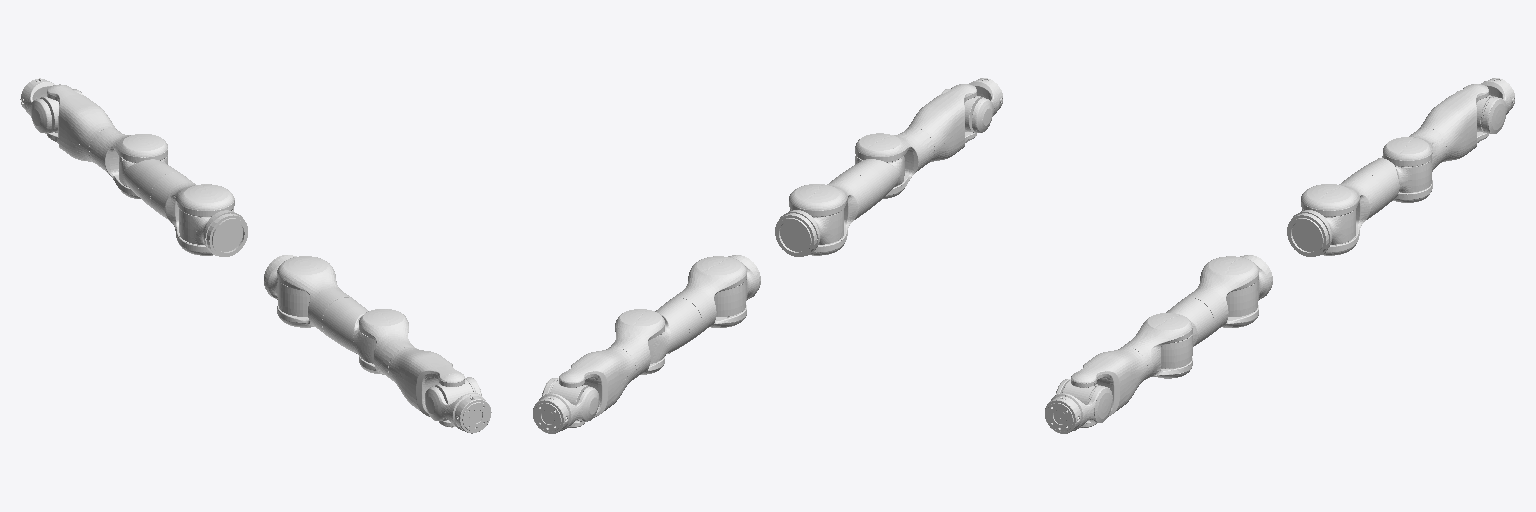
URDF robot description (Marvin_Stand_M6_2026.4.8):
<?xml version="1.0" encoding="utf-8"?>
<!-- This URDF was automatically created by SolidWorks to URDF Exporter! Originally created by Stephen Brawner (brawner@gmail.com) 
     Commit Version: 1.6.0-4-g7f85cfe  Build Version: 1.6.7995.38578
     For more information, please see http://wiki.ros.org/sw_urdf_exporter -->
<robot
  name="Marvin_Stand_M6_2026.4.8">
  <link
    name="ZJ_Robot_link">
    <inertial>
      <origin
        xyz="0.0061822 1.515E-06 0.39228"
        rpy="0 0 0" />
      <mass
        value="15.865" />
      <inertia
        ixx="0.62749"
        ixy="5.8966E-07"
        ixz="-0.0002394"
        iyy="0.61546"
        iyz="-1.2889E-06"
        izz="0.34882" />
    </inertial>
    <visual>
      <origin
        xyz="0 0 0"
        rpy="0 0 0" />
      <geometry>
        <mesh
          filename="package://Marvin_Stand_M6_2026.4.8/meshes/ZJ_Robot_link.STL" />
      </geometry>
      <material
        name="">
        <color
          rgba="0.92 0.92 0.92 1" />
      </material>
    </visual>
    <collision>
      <origin
        xyz="0 0 0"
        rpy="0 0 0" />
      <geometry>
        <mesh
          filename="package://Marvin_Stand_M6_2026.4.8/meshes/ZJ_Robot_link.STL" />
      </geometry>
    </collision>
  </link>
  <link
    name="Arm_R1_Link">
    <inertial>
      <origin
        xyz="1.9011E-06 -0.0016944 -0.023112"
        rpy="0 0 0" />
      <mass
        value="2.1885" />
      <inertia
        ixx="0.0045138"
        ixy="1.0153E-07"
        ixz="3.0946E-08"
        iyy="0.0053666"
        iyz="8.5741E-05"
        izz="0.0023625" />
    </inertial>
    <visual>
      <origin
        xyz="0 0 0"
        rpy="0 0 0" />
      <geometry>
        <mesh
          filename="package://Marvin_Stand_M6_2026.4.8/meshes/Arm_R1_Link.STL" />
      </geometry>
      <material
        name="">
        <color
          rgba="0.92 0.92 0.92 1" />
      </material>
    </visual>
    <collision>
      <origin
        xyz="0 0 0"
        rpy="0 0 0" />
      <geometry>
        <mesh
          filename="package://Marvin_Stand_M6_2026.4.8/meshes/Arm_R1_Link.STL" />
      </geometry>
    </collision>
  </link>
  <joint
    name="Arm_R1_Joint"
    type="revolute">
    <origin
      xyz="0 -0.2005 1.121"
      rpy="1.5707963267949 0 0" />
    <parent
      link="ZJ_Robot_link" />
    <child
      link="Arm_R1_Link" />
    <axis
      xyz="0 0 1" />
    <limit
      lower="-3.1067"
      upper="3.1067"
      effort="108"
      velocity="3.1416" />
  </joint>
  <link
    name="Arm_R2_Link">
    <inertial>
      <origin
        xyz="1.3574E-06 0.047716 -0.0015154"
        rpy="0 0 0" />
      <mass
        value="3.0955" />
      <inertia
        ixx="0.014614"
        ixy="1.0126E-07"
        ixz="-2.2987E-07"
        iyy="0.0063502"
        iyz="-0.0002234"
        izz="0.012237" />
    </inertial>
    <visual>
      <origin
        xyz="0 0 0"
        rpy="0 0 0" />
      <geometry>
        <mesh
          filename="package://Marvin_Stand_M6_2026.4.8/meshes/Arm_R2_Link.STL" />
      </geometry>
      <material
        name="">
        <color
          rgba="0.92 0.92 0.92 1" />
      </material>
    </visual>
    <collision>
      <origin
        xyz="0 0 0"
        rpy="0 0 0" />
      <geometry>
        <mesh
          filename="package://Marvin_Stand_M6_2026.4.8/meshes/Arm_R2_Link.STL" />
      </geometry>
    </collision>
  </link>
  <joint
    name="Arm_R2_Joint"
    type="revolute">
    <origin
      xyz="0 0 0"
      rpy="1.5707963267949 0 0" />
    <parent
      link="Arm_R1_Link" />
    <child
      link="Arm_R2_Link" />
    <axis
      xyz="0 0 1" />
    <limit
      lower="-2.0944"
      upper="2.0944"
      effort="108"
      velocity="3.1416" />
  </joint>
  <link
    name="Arm_R3_Link">
    <inertial>
      <origin
        xyz="0.0058494 0.00090267 -0.056833"
        rpy="0 0 0" />
      <mass
        value="2.8156" />
      <inertia
        ixx="0.0041375"
        ixy="-2.326E-05"
        ixz="-0.00056868"
        iyy="0.0048551"
        iyz="-6.6481E-05"
        izz="0.0028805" />
    </inertial>
    <visual>
      <origin
        xyz="0 0 0"
        rpy="0 0 0" />
      <geometry>
        <mesh
          filename="package://Marvin_Stand_M6_2026.4.8/meshes/Arm_R3_Link.STL" />
      </geometry>
      <material
        name="">
        <color
          rgba="0.92 0.92 0.92 1" />
      </material>
    </visual>
    <collision>
      <origin
        xyz="0 0 0"
        rpy="0 0 0" />
      <geometry>
        <mesh
          filename="package://Marvin_Stand_M6_2026.4.8/meshes/Arm_R3_Link.STL" />
      </geometry>
    </collision>
  </link>
  <joint
    name="Arm_R3_Joint"
    type="revolute">
    <origin
      xyz="0 0.287 0"
      rpy="-1.5707963267949 0 0" />
    <parent
      link="Arm_R2_Link" />
    <child
      link="Arm_R3_Link" />
    <axis
      xyz="0 0 -1" />
    <limit
      lower="-3.1067"
      upper="3.1067"
      effort="66"
      velocity="3.1416" />
  </joint>
  <link
    name="Arm_R4_Link">
    <inertial>
      <origin
        xyz="0.0077606 -0.037398 0.0015701"
        rpy="0 0 0" />
      <mass
        value="2.1623" />
      <inertia
        ixx="0.0073057"
        ixy="0.00076165"
        ixz="2.6393E-05"
        iyy="0.0038811"
        iyz="-0.00012714"
        izz="0.0059903" />
    </inertial>
    <visual>
      <origin
        xyz="0 0 0"
        rpy="0 0 0" />
      <geometry>
        <mesh
          filename="package://Marvin_Stand_M6_2026.4.8/meshes/Arm_R4_Link.STL" />
      </geometry>
      <material
        name="">
        <color
          rgba="0.92 0.92 0.92 1" />
      </material>
    </visual>
    <collision>
      <origin
        xyz="0 0 0"
        rpy="0 0 0" />
      <geometry>
        <mesh
          filename="package://Marvin_Stand_M6_2026.4.8/meshes/Arm_R4_Link.STL" />
      </geometry>
    </collision>
  </link>
  <joint
    name="Arm_R4_Joint"
    type="revolute">
    <origin
      xyz="0.0180000000000117 0 0"
      rpy="-1.5707963267949 0 3.14159265358978" />
    <parent
      link="Arm_R3_Link" />
    <child
      link="Arm_R4_Link" />
    <axis
      xyz="0 0 1" />
    <limit
      lower="-2.5307"
      upper="1.0472"
      effort="66"
      velocity="3.1416" />
  </joint>
  <link
    name="Arm_R5_Link">
    <inertial>
      <origin
        xyz="6.7157E-07 4.5541E-05 -0.11193"
        rpy="0 0 0" />
      <mass
        value="3.1322" />
      <inertia
        ixx="0.010001"
        ixy="1.9075E-08"
        ixz="2.4468E-07"
        iyy="0.0085963"
        iyz="-1.5665E-05"
        izz="0.004403" />
    </inertial>
    <visual>
      <origin
        xyz="0 0 0"
        rpy="0 0 0" />
      <geometry>
        <mesh
          filename="package://Marvin_Stand_M6_2026.4.8/meshes/Arm_R5_Link.STL" />
      </geometry>
      <material
        name="">
        <color
          rgba="0.92 0.92 0.92 1" />
      </material>
    </visual>
    <collision>
      <origin
        xyz="0 0 0"
        rpy="0 0 0" />
      <geometry>
        <mesh
          filename="package://Marvin_Stand_M6_2026.4.8/meshes/Arm_R5_Link.STL" />
      </geometry>
    </collision>
  </link>
  <joint
    name="Arm_R5_Joint"
    type="revolute">
    <origin
      xyz="0.0179999999999999 -0.313999999999999 0"
      rpy="-1.5707963267949 0 3.14159265358979" />
    <parent
      link="Arm_R4_Link" />
    <child
      link="Arm_R5_Link" />
    <axis
      xyz="0 0 -1" />
    <limit
      lower="-3.1067"
      upper="3.1067"
      effort="18"
      velocity="3.1416" />
  </joint>
  <link
    name="Arm_R6_Link">
    <inertial>
      <origin
        xyz="2.5166E-09 0.0024061 -2.4795E-07"
        rpy="0 0 0" />
      <mass
        value="0.73148" />
      <inertia
        ixx="0.00049403"
        ixy="-1.5067E-09"
        ixz="-1.6177E-11"
        iyy="0.00055858"
        iyz="-4.7175E-10"
        izz="0.00045804" />
    </inertial>
    <visual>
      <origin
        xyz="0 0 0"
        rpy="0 0 0" />
      <geometry>
        <mesh
          filename="package://Marvin_Stand_M6_2026.4.8/meshes/Arm_R6_Link.STL" />
      </geometry>
      <material
        name="">
        <color
          rgba="0.92 0.92 0.92 1" />
      </material>
    </visual>
    <collision>
      <origin
        xyz="0 0 0"
        rpy="0 0 0" />
      <geometry>
        <mesh
          filename="package://Marvin_Stand_M6_2026.4.8/meshes/Arm_R6_Link.STL" />
      </geometry>
    </collision>
  </link>
  <joint
    name="Arm_R6_Joint"
    type="revolute">
    <origin
      xyz="0 0 0"
      rpy="1.57079632679492 -1.5707963267949 0" />
    <parent
      link="Arm_R5_Link" />
    <child
      link="Arm_R6_Link" />
    <axis
      xyz="0 0 1" />
    <limit
      lower="-1.0472"
      upper="1.0472"
      effort="18"
      velocity="3.1416" />
  </joint>
  <link
    name="Arm_R7_Link">
    <inertial>
      <origin
        xyz="1.7365E-05 -0.037458 0.0050436"
        rpy="0 0 0" />
      <mass
        value="0.9461" />
      <inertia
        ixx="0.0024615"
        ixy="6.361E-07"
        ixz="9.5177E-08"
        iyy="0.001288"
        iyz="-0.00017642"
        izz="0.0018061" />
    </inertial>
    <visual>
      <origin
        xyz="0 0 0"
        rpy="0 0 0" />
      <geometry>
        <mesh
          filename="package://Marvin_Stand_M6_2026.4.8/meshes/Arm_R7_Link.STL" />
      </geometry>
      <material
        name="">
        <color
          rgba="0.92 0.92 0.92 1" />
      </material>
    </visual>
    <collision>
      <origin
        xyz="0 0 0"
        rpy="0 0 0" />
      <geometry>
        <mesh
          filename="package://Marvin_Stand_M6_2026.4.8/meshes/Arm_R7_Link.STL" />
      </geometry>
    </collision>
  </link>
  <joint
    name="Arm_R7_Joint"
    type="revolute">
    <origin
      xyz="0 0 0"
      rpy="1.5708 -1.5708 0" />
    <parent
      link="Arm_R6_Link" />
    <child
      link="Arm_R7_Link" />
    <axis
      xyz="0 0 1" />
    <limit
      lower="-1.5708"
      upper="1.5708"
      effort="18"
      velocity="3.1416" />
  </joint>
  <link
    name="Arm_R_gripper_base">
    <inertial>
      <origin
        xyz="0 -0.075 0"
        rpy="0 0 0" />
      <mass
        value="0.85" />
      <inertia
        ixx="0.0016"
        ixy="0"
        ixz="0"
        iyy="0.0009"
        iyz="0"
        izz="0.0016" />
    </inertial>
  </link>
  <joint
    name="Arm_R_gripper_base_Joint"
    type="fixed">
    <origin
      xyz="0 -0.095 0"
      rpy="0 1.5707963267948966 0" />
    <parent
      link="Arm_R7_Link" />
    <child
      link="Arm_R_gripper_base" />
  </joint>
  <link
    name="Arm_R_finger1">
    <inertial>
      <origin
        xyz="0 -0.195 0.035"
        rpy="0 0 0" />
      <mass
        value="0.065" />
      <inertia
        ixx="2.5e-05"
        ixy="0"
        ixz="0"
        iyy="1.5e-05"
        iyz="0"
        izz="2.5e-05" />
    </inertial>
  </link>
  <joint
    name="Arm_R_finger1_Joint"
    type="prismatic">
    <origin
      xyz="0 0 0"
      rpy="0 0 0" />
    <parent
      link="Arm_R_gripper_base" />
    <child
      link="Arm_R_finger1" />
    <axis
      xyz="0 0 -1" />
    <limit
      lower="0"
      upper="0.045"
      effort="60"
      velocity="0.2" />
  </joint>
  <link
    name="Arm_R_finger2">
    <inertial>
      <origin
        xyz="0 -0.195 -0.035"
        rpy="0 0 0" />
      <mass
        value="0.065" />
      <inertia
        ixx="2.5e-05"
        ixy="0"
        ixz="0"
        iyy="1.5e-05"
        iyz="0"
        izz="2.5e-05" />
    </inertial>
  </link>
  <joint
    name="Arm_R_finger2_Joint"
    type="prismatic">
    <origin
      xyz="0 0 0"
      rpy="0 0 0" />
    <parent
      link="Arm_R_gripper_base" />
    <child
      link="Arm_R_finger2" />
    <axis
      xyz="0 0 1" />
    <limit
      lower="0"
      upper="0.045"
      effort="60"
      velocity="0.2" />
    <mimic joint="Arm_R_finger1_Joint" multiplier="1" offset="0" />
  </joint>
  <link
    name="Arm_L1_Link">
    <inertial>
      <origin
        xyz="1.9011E-06 -0.0016944 -0.023112"
        rpy="0 0 0" />
      <mass
        value="2.1885" />
      <inertia
        ixx="0.0045138"
        ixy="1.0153E-07"
        ixz="3.0946E-08"
        iyy="0.0053666"
        iyz="8.5741E-05"
        izz="0.0023625" />
    </inertial>
    <visual>
      <origin
        xyz="0 0 0"
        rpy="0 0 0" />
      <geometry>
        <mesh
          filename="package://Marvin_Stand_M6_2026.4.8/meshes/Arm_L1_Link.STL" />
      </geometry>
      <material
        name="">
        <color
          rgba="0.92 0.92 0.92 1" />
      </material>
    </visual>
    <collision>
      <origin
        xyz="0 0 0"
        rpy="0 0 0" />
      <geometry>
        <mesh
          filename="package://Marvin_Stand_M6_2026.4.8/meshes/Arm_L1_Link.STL" />
      </geometry>
    </collision>
  </link>
  <joint
    name="Arm_L1_Joint"
    type="revolute">
    <origin
      xyz="-0.0013483 0.2005 1.121"
      rpy="-1.5708 0 0" />
    <parent
      link="ZJ_Robot_link" />
    <child
      link="Arm_L1_Link" />
    <axis
      xyz="0 0 1" />
    <limit
      lower="-3.1067"
      upper="3.1067"
      effort="108"
      velocity="3.1416" />
  </joint>
  <link
    name="Arm_L2_Link">
    <inertial>
      <origin
        xyz="-1.3574E-06 -0.047716 -0.0015154"
        rpy="0 0 0" />
      <mass
        value="3.0955" />
      <inertia
        ixx="0.014614"
        ixy="1.0126E-07"
        ixz="2.2987E-07"
        iyy="0.0063502"
        iyz="0.0002234"
        izz="0.012237" />
    </inertial>
    <visual>
      <origin
        xyz="0 0 0"
        rpy="0 0 0" />
      <geometry>
        <mesh
          filename="package://Marvin_Stand_M6_2026.4.8/meshes/Arm_L2_Link.STL" />
      </geometry>
      <material
        name="">
        <color
          rgba="0.92 0.92 0.92 1" />
      </material>
    </visual>
    <collision>
      <origin
        xyz="0 0 0"
        rpy="0 0 0" />
      <geometry>
        <mesh
          filename="package://Marvin_Stand_M6_2026.4.8/meshes/Arm_L2_Link.STL" />
      </geometry>
    </collision>
  </link>
  <joint
    name="Arm_L2_Joint"
    type="revolute">
    <origin
      xyz="0 0 0"
      rpy="-1.5707963267949 0 -3.14159265358977" />
    <parent
      link="Arm_L1_Link" />
    <child
      link="Arm_L2_Link" />
    <axis
      xyz="0 0 1" />
    <limit
      lower="-2.0944"
      upper="2.0944"
      effort="108"
      velocity="3.1416" />
  </joint>
  <link
    name="Arm_L3_Link">
    <inertial>
      <origin
        xyz="0.0058494 0.00090267 -0.056833"
        rpy="0 0 0" />
      <mass
        value="2.8156" />
      <inertia
        ixx="0.0041375"
        ixy="-2.326E-05"
        ixz="-0.00056868"
        iyy="0.0048551"
        iyz="-6.6481E-05"
        izz="0.0028805" />
    </inertial>
    <visual>
      <origin
        xyz="0 0 0"
        rpy="0 0 0" />
      <geometry>
        <mesh
          filename="package://Marvin_Stand_M6_2026.4.8/meshes/Arm_L3_Link.STL" />
      </geometry>
      <material
        name="">
        <color
          rgba="0.92 0.92 0.92 1" />
      </material>
    </visual>
    <collision>
      <origin
        xyz="0 0 0"
        rpy="0 0 0" />
      <geometry>
        <mesh
          filename="package://Marvin_Stand_M6_2026.4.8/meshes/Arm_L3_Link.STL" />
      </geometry>
    </collision>
  </link>
  <joint
    name="Arm_L3_Joint"
    type="revolute">
    <origin
      xyz="0 -0.287 0"
      rpy="-1.5707963267949 0 -3.14159265358979" />
    <parent
      link="Arm_L2_Link" />
    <child
      link="Arm_L3_Link" />
    <axis
      xyz="0 0 -1" />
    <limit
      lower="-3.1067"
      upper="3.1067"
      effort="66"
      velocity="3.1416" />
  </joint>
  <link
    name="Arm_L4_Link">
    <inertial>
      <origin
        xyz="0.0077606 -0.037398 0.0015701"
        rpy="0 0 0" />
      <mass
        value="2.1623" />
      <inertia
        ixx="0.0073057"
        ixy="0.00076165"
        ixz="2.6393E-05"
        iyy="0.0038811"
        iyz="-0.00012714"
        izz="0.0059903" />
    </inertial>
    <visual>
      <origin
        xyz="0 0 0"
        rpy="0 0 0" />
      <geometry>
        <mesh
          filename="package://Marvin_Stand_M6_2026.4.8/meshes/Arm_L4_Link.STL" />
      </geometry>
      <material
        name="">
        <color
          rgba="0.92 0.92 0.92 1" />
      </material>
    </visual>
    <collision>
      <origin
        xyz="0 0 0"
        rpy="0 0 0" />
      <geometry>
        <mesh
          filename="package://Marvin_Stand_M6_2026.4.8/meshes/Arm_L4_Link.STL" />
      </geometry>
    </collision>
  </link>
  <joint
    name="Arm_L4_Joint"
    type="revolute">
    <origin
      xyz="0.0179999999999886 0 0"
      rpy="-1.5707963267949 0 -3.14159265358978" />
    <parent
      link="Arm_L3_Link" />
    <child
      link="Arm_L4_Link" />
    <axis
      xyz="0 0 1" />
    <limit
      lower="-2.5307"
      upper="1.0472"
      effort="66"
      velocity="3.1416" />
  </joint>
  <link
    name="Arm_L5_Link">
    <inertial>
      <origin
        xyz="4.5005E-07 -4.5715E-05 -0.11193"
        rpy="0 0 0" />
      <mass
        value="3.1322" />
      <inertia
        ixx="0.010001"
        ixy="-1.1309E-07"
        ixz="2.4263E-07"
        iyy="0.0085963"
        iyz="1.5686E-05"
        izz="0.004403" />
    </inertial>
    <visual>
      <origin
        xyz="0 0 0"
        rpy="0 0 0" />
      <geometry>
        <mesh
          filename="package://Marvin_Stand_M6_2026.4.8/meshes/Arm_L5_Link.STL" />
      </geometry>
      <material
        name="">
        <color
          rgba="0.92 0.92 0.92 1" />
      </material>
    </visual>
    <collision>
      <origin
        xyz="0 0 0"
        rpy="0 0 0" />
      <geometry>
        <mesh
          filename="package://Marvin_Stand_M6_2026.4.8/meshes/Arm_L5_Link.STL" />
      </geometry>
    </collision>
  </link>
  <joint
    name="Arm_L5_Joint"
    type="revolute">
    <origin
      xyz="0.0180000000000001 -0.314 0"
      rpy="-1.5707963267949 0 -3.14159265358979" />
    <parent
      link="Arm_L4_Link" />
    <child
      link="Arm_L5_Link" />
    <axis
      xyz="0 0 1" />
    <limit
      lower="-3.1067"
      upper="3.1067"
      effort="18"
      velocity="3.1416" />
  </joint>
  <link
    name="Arm_L6_Link">
    <inertial>
      <origin
        xyz="2.5166E-09 0.0024061 -2.4795E-07"
        rpy="0 0 0" />
      <mass
        value="0.73148" />
      <inertia
        ixx="0.00049403"
        ixy="-1.5067E-09"
        ixz="-1.6177E-11"
        iyy="0.00055858"
        iyz="-4.7175E-10"
        izz="0.00045804" />
    </inertial>
    <visual>
      <origin
        xyz="0 0 0"
        rpy="0 0 0" />
      <geometry>
        <mesh
          filename="package://Marvin_Stand_M6_2026.4.8/meshes/Arm_L6_Link.STL" />
      </geometry>
      <material
        name="">
        <color
          rgba="0.92 0.92 0.92 1" />
      </material>
    </visual>
    <collision>
      <origin
        xyz="0 0 0"
        rpy="0 0 0" />
      <geometry>
        <mesh
          filename="package://Marvin_Stand_M6_2026.4.8/meshes/Arm_L6_Link.STL" />
      </geometry>
    </collision>
  </link>
  <joint
    name="Arm_L6_Joint"
    type="revolute">
    <origin
      xyz="0 0 0"
      rpy="1.57079632679488 -1.5707963267949 0" />
    <parent
      link="Arm_L5_Link" />
    <child
      link="Arm_L6_Link" />
    <axis
      xyz="0 0 -1" />
    <limit
      lower="-1.0472"
      upper="1.0472"
      effort="18"
      velocity="3.1416" />
  </joint>
  <link
    name="Arm_L7_Link">
    <inertial>
      <origin
        xyz="-1.6024E-05 -0.037457 0.0051214"
        rpy="0 0 0" />
      <mass
        value="0.9461" />
      <inertia
        ixx="0.0024608"
        ixy="-4.8518E-07"
        ixz="-1.7754E-08"
        iyy="0.0012873"
        iyz="-0.00017308"
        izz="0.0018062" />
    </inertial>
    <visual>
      <origin
        xyz="0 0 0"
        rpy="0 0 0" />
      <geometry>
        <mesh
          filename="package://Marvin_Stand_M6_2026.4.8/meshes/Arm_L7_Link.STL" />
      </geometry>
      <material
        name="">
        <color
          rgba="0.92 0.92 0.92 1" />
      </material>
    </visual>
    <collision>
      <origin
        xyz="0 0 0"
        rpy="0 0 0" />
      <geometry>
        <mesh
          filename="package://Marvin_Stand_M6_2026.4.8/meshes/Arm_L7_Link.STL" />
      </geometry>
    </collision>
  </link>
  <joint
    name="Arm_L7_Joint"
    type="revolute">
    <origin
      xyz="0 0 0"
      rpy="1.5708 -1.5708 0" />
    <parent
      link="Arm_L6_Link" />
    <child
      link="Arm_L7_Link" />
    <axis
      xyz="0 0 1" />
    <limit
      lower="-1.5708"
      upper="1.5708"
      effort="18"
      velocity="3.1416" />
  </joint>
  <link
    name="Arm_L_gripper_base">
    <inertial>
      <origin
        xyz="0 -0.075 0"
        rpy="0 0 0" />
      <mass
        value="0.85" />
      <inertia
        ixx="0.0016"
        ixy="0"
        ixz="0"
        iyy="0.0009"
        iyz="0"
        izz="0.0016" />
    </inertial>
  </link>
  <joint
    name="Arm_L_gripper_base_Joint"
    type="fixed">
    <origin
      xyz="0 -0.095 0"
      rpy="0 1.5707963267948966 0" />
    <parent
      link="Arm_L7_Link" />
    <child
      link="Arm_L_gripper_base" />
  </joint>
  <link
    name="Arm_L_finger1">
    <inertial>
      <origin
        xyz="0 -0.195 0.035"
        rpy="0 0 0" />
      <mass
        value="0.065" />
      <inertia
        ixx="2.5e-05"
        ixy="0"
        ixz="0"
        iyy="1.5e-05"
        iyz="0"
        izz="2.5e-05" />
    </inertial>
  </link>
  <joint
    name="Arm_L_finger1_Joint"
    type="prismatic">
    <origin
      xyz="0 0 0"
      rpy="0 0 0" />
    <parent
      link="Arm_L_gripper_base" />
    <child
      link="Arm_L_finger1" />
    <axis
      xyz="0 0 -1" />
    <limit
      lower="0"
      upper="0.045"
      effort="60"
      velocity="0.2" />
  </joint>
  <link
    name="Arm_L_finger2">
    <inertial>
      <origin
        xyz="0 -0.195 -0.035"
        rpy="0 0 0" />
      <mass
        value="0.065" />
      <inertia
        ixx="2.5e-05"
        ixy="0"
        ixz="0"
        iyy="1.5e-05"
        iyz="0"
        izz="2.5e-05" />
    </inertial>
  </link>
  <joint
    name="Arm_L_finger2_Joint"
    type="prismatic">
    <origin
      xyz="0 0 0"
      rpy="0 0 0" />
    <parent
      link="Arm_L_gripper_base" />
    <child
      link="Arm_L_finger2" />
    <axis
      xyz="0 0 1" />
    <limit
      lower="0"
      upper="0.045"
      effort="60"
      velocity="0.2" />
    <mimic joint="Arm_L_finger1_Joint" multiplier="1" offset="0" />
  </joint>
</robot>

--- Render facts (derived) ---
The picture shows the robot from 3 angles, left to right: view 1: azimuth 30°, elevation 25°; view 2: azimuth 150°, elevation 25°; view 3: azimuth 330°, elevation 25°; orthographic projection.
Model Marvin_Stand_M6_2026.4.8 with 21 links and 20 joints (14 revolute, 4 prismatic, 2 fixed), rooted at ZJ_Robot_link, posed every joint at zero.
Links seen in each view (by area): view 1: Arm_L2_Link, Arm_R2_Link, Arm_L5_Link, Arm_R5_Link, Arm_L4_Link, Arm_L1_Link, Arm_R4_Link, Arm_R7_Link, Arm_R3_Link, Arm_L3_Link, Arm_R1_Link, Arm_L7_Link; view 2: Arm_R2_Link, Arm_L2_Link, Arm_L5_Link, Arm_R5_Link, Arm_R4_Link, Arm_R1_Link, Arm_L4_Link, Arm_L7_Link, Arm_L3_Link, Arm_R3_Link, Arm_L1_Link, Arm_R7_Link; view 3: Arm_L2_Link, Arm_R2_Link, Arm_L5_Link, Arm_R5_Link, Arm_R4_Link, Arm_L1_Link, Arm_L4_Link, Arm_R7_Link, Arm_R3_Link, Arm_L3_Link, Arm_R1_Link, Arm_L7_Link.
Link boxes in pixels (x1,y1,x2,y2): Arm_L2_Link: (150,172,234,255); Arm_R2_Link: (277,256,352,335); Arm_L5_Link: (47,84,116,162); Arm_R5_Link: (388,347,464,427); Arm_L4_Link: (89,128,167,198); Arm_L1_Link: (179,208,247,256); Arm_R4_Link: (359,309,413,380); Arm_R7_Link: (425,377,491,433); Arm_R3_Link: (322,298,375,363); Arm_L3_Link: (119,156,179,207); Arm_R1_Link: (264,255,309,316); Arm_L7_Link: (20,78,82,133); Arm_R2_Link: (789,172,872,255); Arm_L2_Link: (670,256,746,334); Arm_L5_Link: (559,347,635,427); Arm_R5_Link: (907,84,976,162); Arm_R4_Link: (855,128,934,198); Arm_R1_Link: (775,209,843,256); Arm_L4_Link: (609,309,664,379); Arm_L7_Link: (533,378,598,433); Arm_L3_Link: (648,298,702,363); Arm_R3_Link: (843,156,904,209); Arm_L1_Link: (715,255,760,316); Arm_R7_Link: (940,78,1002,132); Arm_L2_Link: (1301,172,1384,255); Arm_R2_Link: (1182,256,1258,334); Arm_L5_Link: (1418,84,1488,162); Arm_R5_Link: (1071,347,1147,427); Arm_R4_Link: (1121,313,1192,379); Arm_L1_Link: (1287,209,1355,256); Arm_L4_Link: (1383,128,1446,202); Arm_R7_Link: (1045,379,1112,433); Arm_R3_Link: (1161,298,1213,368); Arm_L3_Link: (1355,156,1431,209); Arm_R1_Link: (1227,255,1272,316); Arm_L7_Link: (1455,78,1514,133).
Bounding box of the posed robot: 0.1275 × 1.79 × 0.127 m (x, y, z).
14 mesh visuals loaded from 15 distinct referenced files (14 binary STL); not drawn: 1 (reference not matched to a file when rendering).
